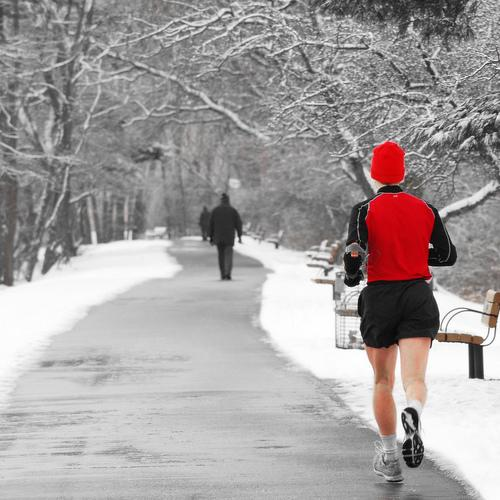person: (340, 140, 460, 485)
